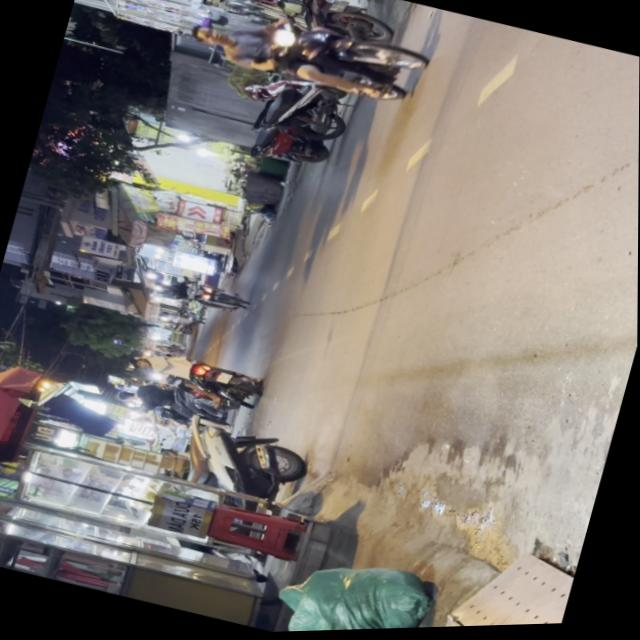licenseplate: (180, 0, 432, 119)
motorcyclist: (188, 20, 231, 49)
